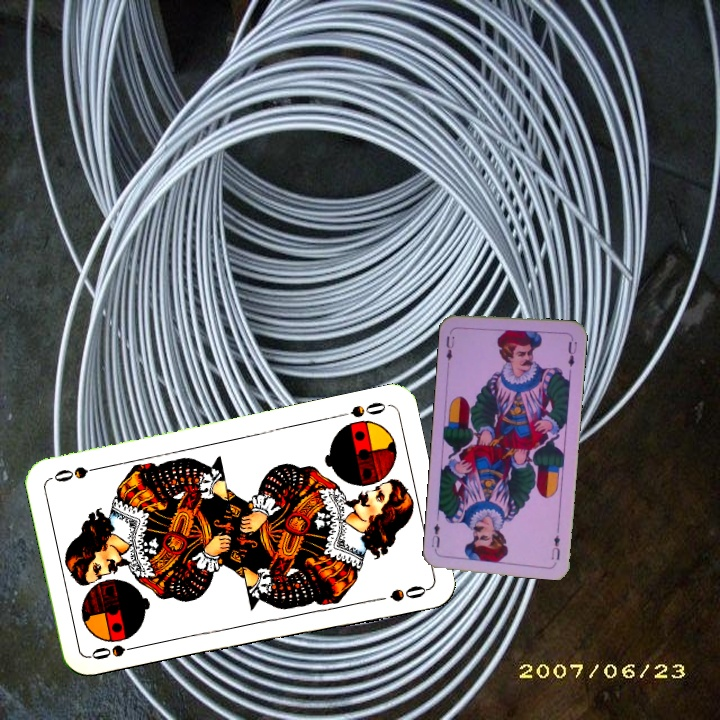EU: (547, 531, 563, 563), (442, 332, 457, 363)
SO: (332, 398, 391, 421), (87, 640, 145, 663)
